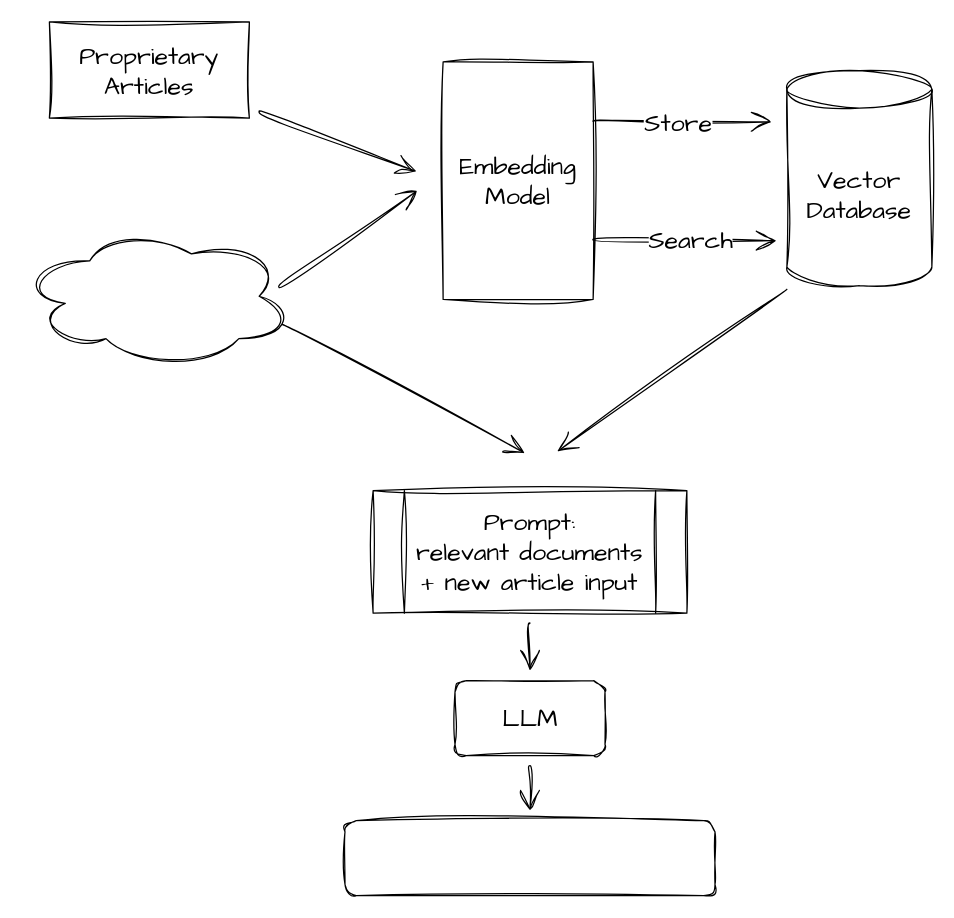
Image size: 954x918. Some labels were removed from this diagram. The shapes that lost their labels are listed below. From the top down, each one's box as (x1, y1, x2, y2) in pixels, then its label:
(21, 224, 293, 367): Idea for a new article
(344, 819, 715, 896): New Article based on proprietary content
